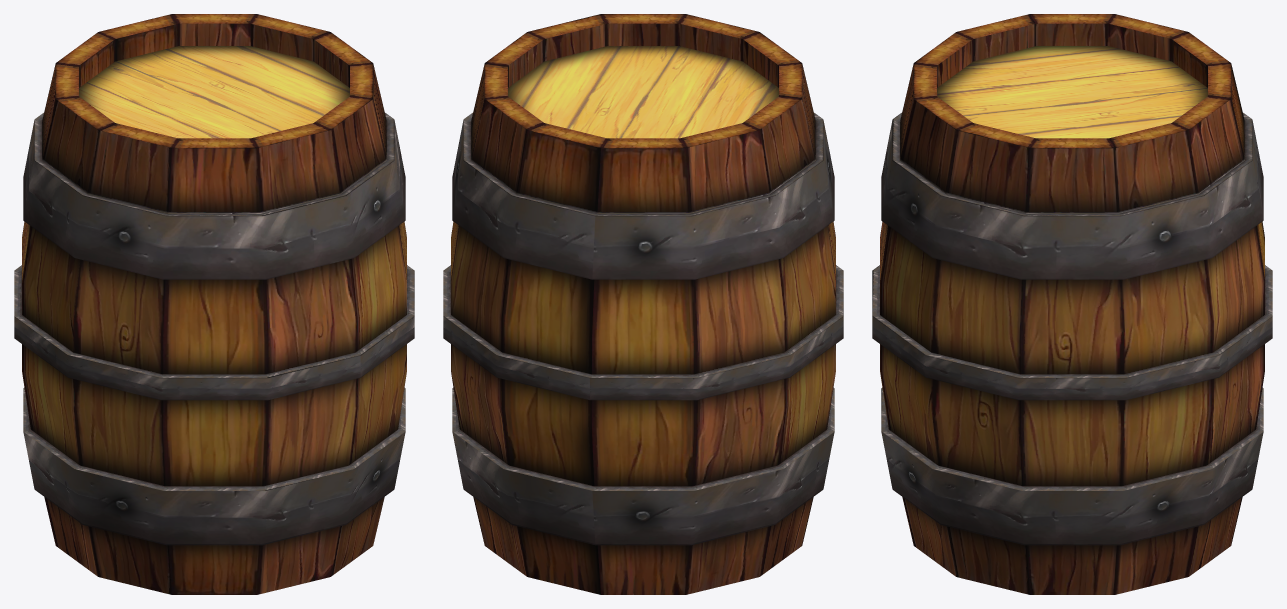
File: barrel.fbx
The picture shows the model from 3 angles, left to right: view 1: azimuth 30°, elevation 25°; view 2: azimuth 150°, elevation 25°; view 3: azimuth 270°, elevation 25°; orthographic projection.
Parts seen in each view (by area): view 1: pasted__barrel7; view 2: pasted__barrel7; view 3: pasted__barrel7.
Boxes of the visible parts, box(x1,y1,x2,y2) form: pasted__barrel7: box(14, 14, 414, 594); pasted__barrel7: box(443, 14, 843, 594); pasted__barrel7: box(872, 14, 1272, 594).
Size of the model in its own units: 2.44 by 3 by 2.44.
1 material, 1 textured.
